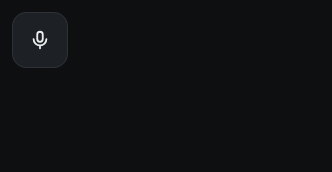
Scenario: MicButton with ElevenLabs › records, sends the recording for transcription, and passes the sentence on
The width and height of the screenshot is (332, 172).
Click the button named "Speak" at (40, 40), box [12,12,68,68]
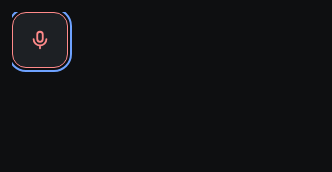
Expected: the button named "Listening…" is shown
Click the button named "Listening…" at (40, 40), box [12,12,68,68]
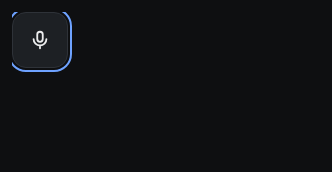
Expected: the button named "Speak" is shown, [12,12,68,68]
